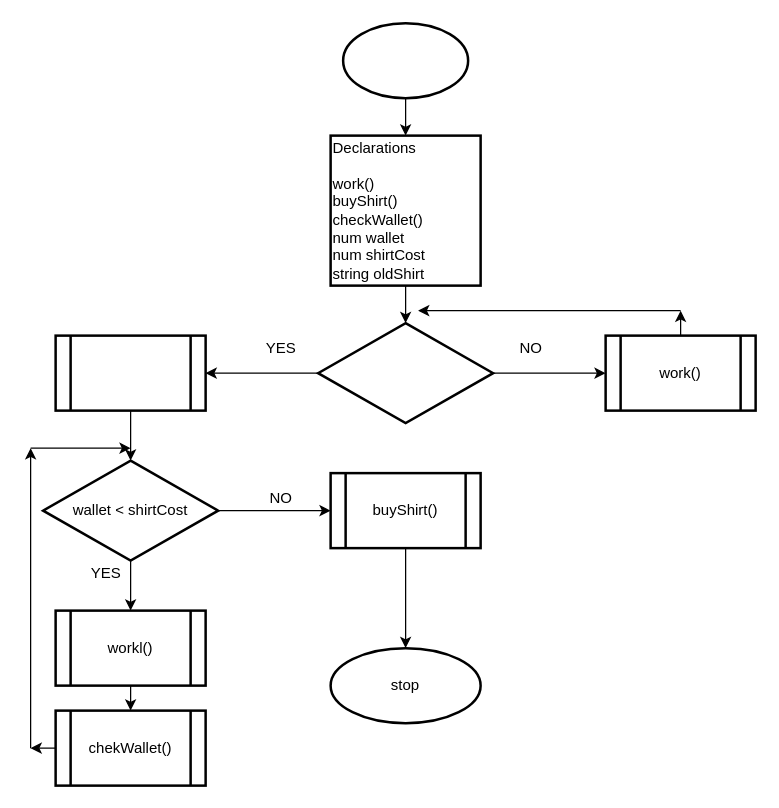
Image size: 779x808. Some labels were removed from this diagram. Here are the shapes that lost their labels. From the top down, the centre of each, then its label:
the point at 405,60: start
the point at 130,372: checkWallet()
the point at 405,372: oldShirt == 'dirty'
